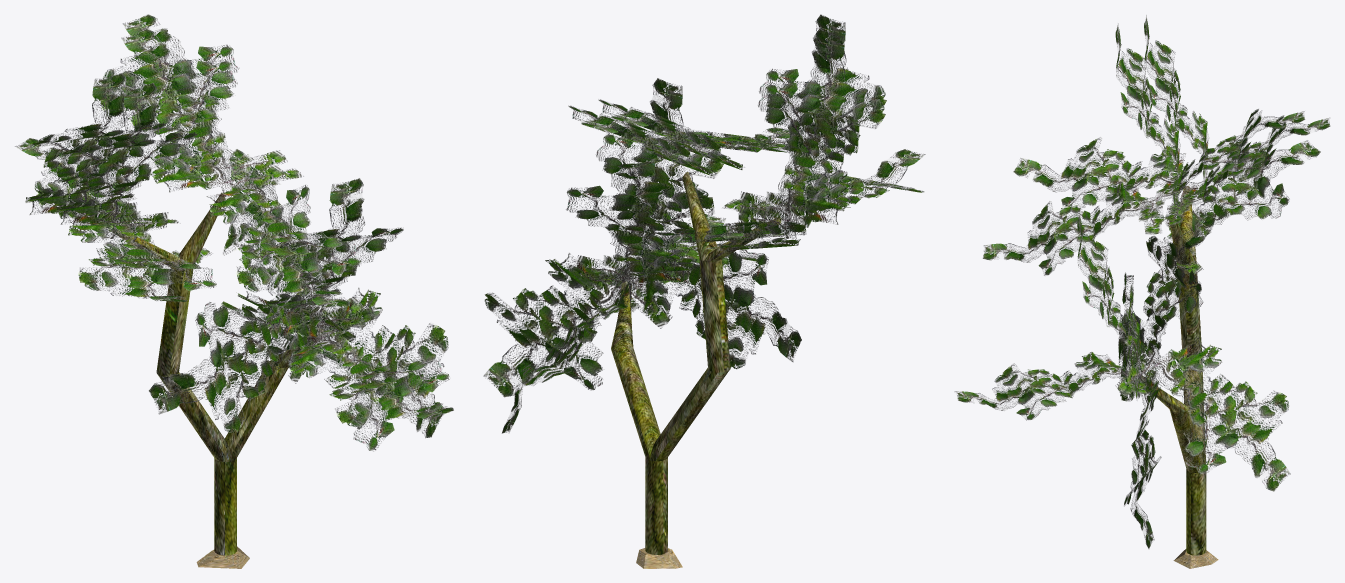
File: Pixeltree.glb
The picture shows the model from 3 angles, left to right: view 1: azimuth 30°, elevation 25°; view 2: azimuth 150°, elevation 25°; view 3: azimuth 270°, elevation 25°; orthographic projection. The views are drawn at different scales.
Visible parts, largest first — view 1: Tree Branchpixellated_ntsc.006, Tree Branchpixellated_ntsc.004, Tree, Tree Branchpixellated_ntsc.009, Tree Branchpixellated_ntsc.008, Tree Branchpixellated_ntsc.001, Tree Branchpixellated_ntsc.003, Tree Branchpixellated_ntsc.007, Tree Branchpixellated_ntsc.005, Tree Branchpixellated_ntsc, Tree Branchpixellated_ntsc.010, Tree Branchpixellated_ntsc.002 (+3 smaller); view 2: Tree, Tree Branchpixellated_ntsc.005, Tree Branchpixellated_ntsc.003, Tree Branchpixellated_ntsc.002, Tree Branchpixellated_ntsc.004, Tree Branchpixellated_ntsc.008, Tree Branchpixellated_ntsc, Tree Branchpixellated_ntsc.011, Tree Branchpixellated_ntsc.012, Tree Branchpixellated_ntsc.010, Tree Branchpixellated_ntsc.006, Tree Branchpixellated_ntsc.007 (+3 smaller); view 3: Tree Branchpixellated_ntsc.011, Tree, Tree Branchpixellated_ntsc.010, Tree Branchpixellated_ntsc.009, Tree Branchpixellated_ntsc.002, Tree Branchpixellated_ntsc.012, Tree Branchpixellated_ntsc.001, Tree Branchpixellated_ntsc.006, Tree Branchpixellated_ntsc, Tree Branchpixellated_ntsc.008, Tree Branchpixellated_ntsc.005, Tree Branchpixellated_ntsc.007 (+3 smaller).
Boxes of the visible parts, bbox=[...] form: Tree Branchpixellated_ntsc.006: bbox=[100, 29, 285, 196]; Tree Branchpixellated_ntsc.004: bbox=[148, 252, 330, 432]; Tree: bbox=[112, 192, 323, 555]; Tree Branchpixellated_ntsc.009: bbox=[206, 168, 361, 309]; Tree Branchpixellated_ntsc.008: bbox=[56, 83, 197, 239]; Tree Branchpixellated_ntsc.001: bbox=[282, 316, 453, 427]; Tree Branchpixellated_ntsc.003: bbox=[288, 287, 448, 451]; Tree Branchpixellated_ntsc.007: bbox=[102, 14, 287, 181]; Tree Branchpixellated_ntsc.005: bbox=[25, 73, 165, 229]; Tree Branchpixellated_ntsc: bbox=[262, 178, 403, 330]; Tree Branchpixellated_ntsc.010: bbox=[68, 217, 216, 301]; Tree Branchpixellated_ntsc.002: bbox=[222, 149, 364, 342]; Tree: bbox=[611, 172, 781, 554]; Tree Branchpixellated_ntsc.005: bbox=[738, 28, 885, 239]; Tree Branchpixellated_ntsc.003: bbox=[483, 253, 672, 397]; Tree Branchpixellated_ntsc.002: bbox=[566, 158, 714, 285]; Tree Branchpixellated_ntsc.004: bbox=[628, 201, 801, 369]; Tree Branchpixellated_ntsc.008: bbox=[739, 14, 886, 223]; Tree Branchpixellated_ntsc: bbox=[576, 78, 723, 289]; Tree Branchpixellated_ntsc.011: bbox=[501, 264, 634, 433]; Tree Branchpixellated_ntsc.012: bbox=[660, 220, 806, 250]; Tree Branchpixellated_ntsc.010: bbox=[722, 149, 925, 218]; Tree Branchpixellated_ntsc.006: bbox=[598, 99, 744, 170]; Tree Branchpixellated_ntsc.007: bbox=[568, 105, 715, 176]; Tree Branchpixellated_ntsc.011: bbox=[1115, 337, 1290, 491]; Tree: bbox=[1138, 186, 1206, 555]; Tree Branchpixellated_ntsc.010: bbox=[1013, 137, 1199, 216]; Tree Branchpixellated_ntsc.009: bbox=[982, 181, 1164, 275]; Tree Branchpixellated_ntsc.002: bbox=[1126, 206, 1215, 395]; Tree Branchpixellated_ntsc.012: bbox=[1161, 139, 1320, 276]; Tree Branchpixellated_ntsc.001: bbox=[954, 351, 1149, 420]; Tree Branchpixellated_ntsc.006: bbox=[1140, 109, 1305, 220]; Tree Branchpixellated_ntsc: bbox=[1077, 212, 1140, 400]; Tree Branchpixellated_ntsc.008: bbox=[1115, 23, 1180, 206]; Tree Branchpixellated_ntsc.005: bbox=[1144, 15, 1208, 203]; Tree Branchpixellated_ntsc.007: bbox=[1165, 115, 1330, 226].
Size of the model in its own units: 41.8 by 53.21 by 37.96.
3 materials, 3 textured.
